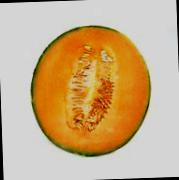Melon Ripe: (28, 22, 154, 160)
